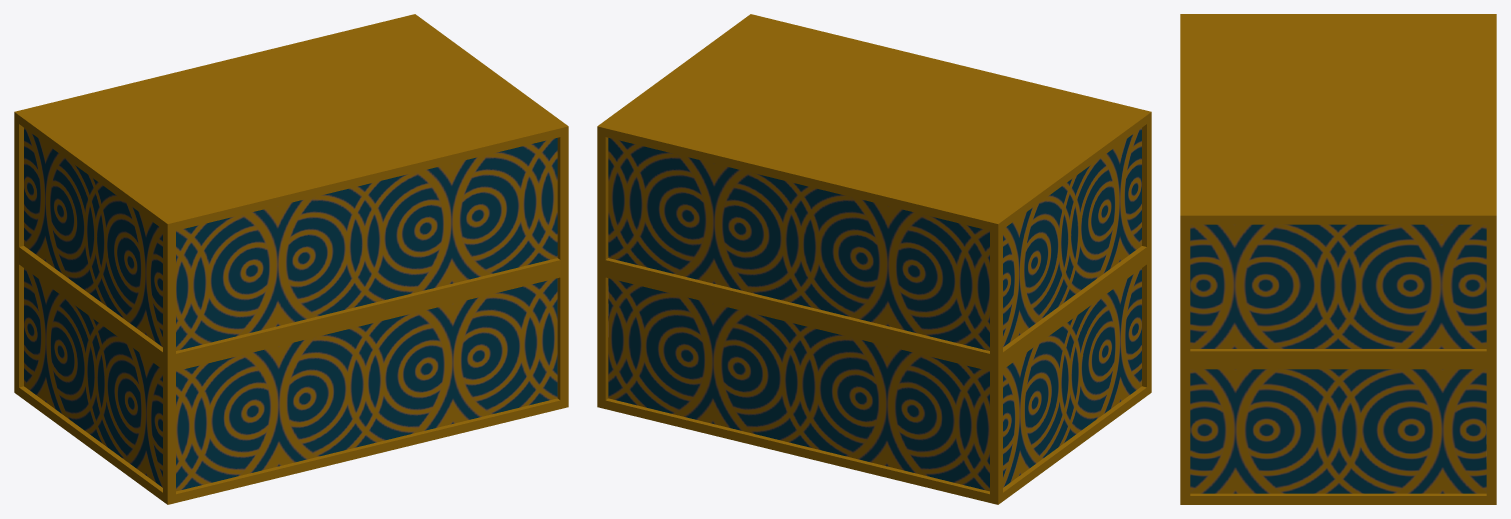
Rendered from BoxAndDoll.fbx.
The picture shows the model from 3 angles, left to right: view 1: azimuth 30°, elevation 25°; view 2: azimuth 150°, elevation 25°; view 3: azimuth 270°, elevation 25°; orthographic projection. The views are drawn at different scales.
Parts seen in each view (by area): view 1: BoxPart2, BoxPart1; view 2: BoxPart2, BoxPart1; view 3: BoxPart2, BoxPart1.
Part boxes in pixels (left/top/right/bottom): BoxPart2: left=14, top=14, right=568, bottom=364; BoxPart1: left=14, top=252, right=568, bottom=504; BoxPart2: left=597, top=14, right=1151, bottom=364; BoxPart1: left=597, top=252, right=1151, bottom=504; BoxPart2: left=1180, top=14, right=1496, bottom=360; BoxPart1: left=1180, top=360, right=1496, bottom=504.
Size of the model in its own units: 24.17 by 16.17 by 16.03.
